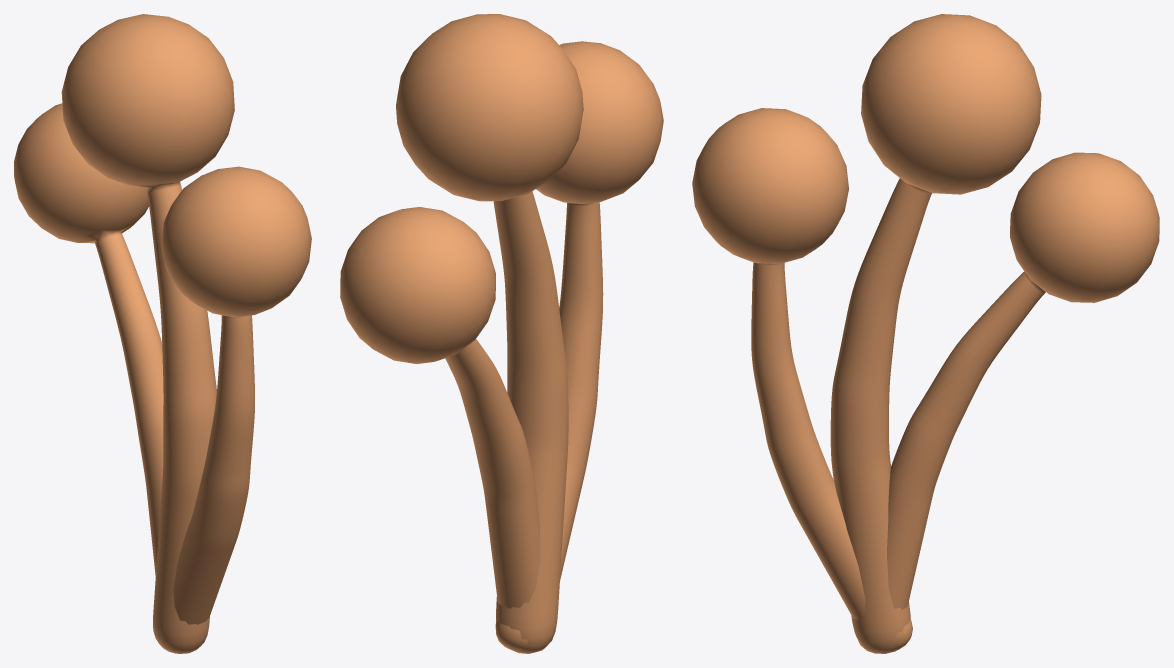
File: Decoration2.fbx
3 renders of one model, left to right at view 1: azimuth 30°, elevation 25°; view 2: azimuth 150°, elevation 25°; view 3: azimuth 270°, elevation 25°, orthographic. The views are drawn at different scales.
Parts seen in each view (by area): view 1: Plane.017, Plane.039, Plane.038; view 2: Plane.017, Plane.038, Plane.039; view 3: Plane.017, Plane.039, Plane.038.
Boxes of the visible parts, <box> form: Plane.017: <box>61,14,234,653</box>; Plane.039: <box>161,166,311,624</box>; Plane.038: <box>14,103,163,575</box>; Plane.017: <box>396,14,583,653</box>; Plane.038: <box>340,207,540,608</box>; Plane.039: <box>495,41,663,650</box>; Plane.017: <box>830,14,1041,653</box>; Plane.039: <box>692,108,912,650</box>; Plane.038: <box>887,152,1159,609</box>.
Bounding box in the file's own units: 29.87 × 114 × 76.87.
